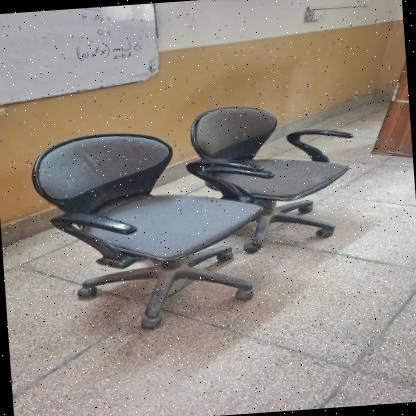chair: (20, 118, 282, 341), (184, 90, 360, 260)
